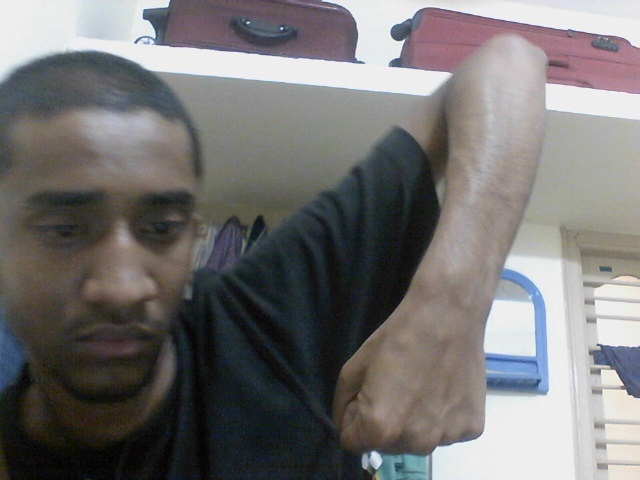hand: (325, 284, 490, 459)
